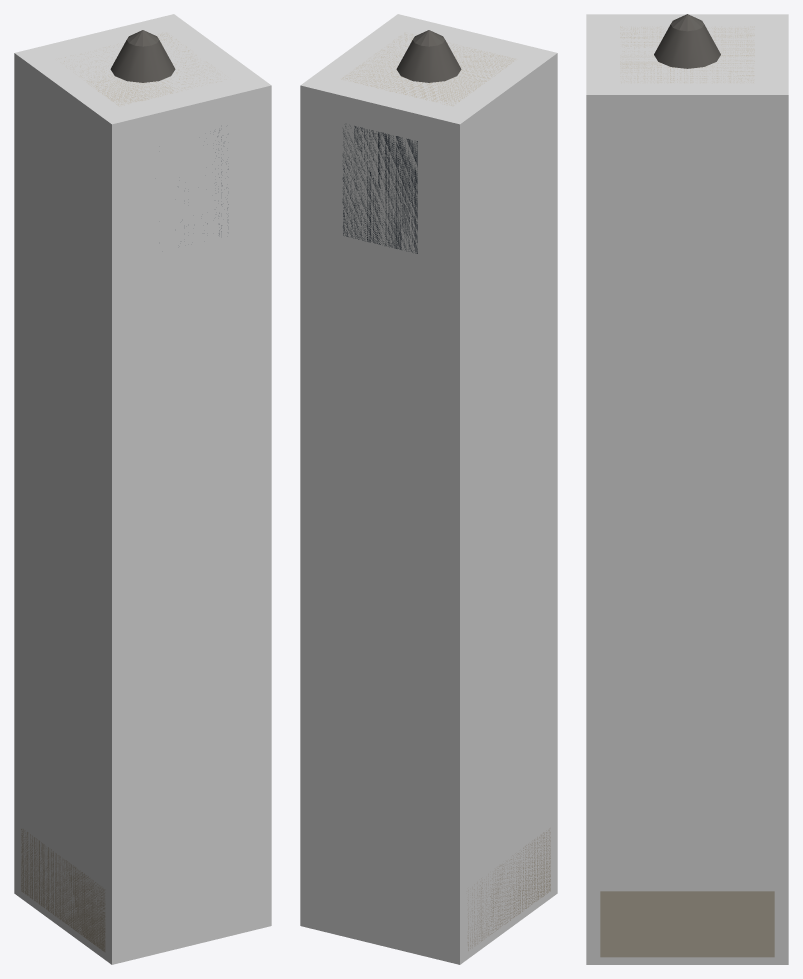
3 views of the same model, side by side, from view 1: azimuth 30°, elevation 25°; view 2: azimuth 150°, elevation 25°; view 3: azimuth 270°, elevation 25° (orthographic). The views are drawn at different scales.
Parts seen in each view (by area): view 1: col_pillar, T08_body; view 2: col_pillar, T08_body; view 3: col_pillar, T08_body.
Boxes of the visible parts, x1=… form: col_pillar: x1=14, y1=14, x2=271, y2=964; T08_body: x1=21, y1=30, x2=228, y2=952; col_pillar: x1=300, y1=14, x2=557, y2=964; T08_body: x1=341, y1=30, x2=550, y2=950; col_pillar: x1=586, y1=14, x2=788, y2=964; T08_body: x1=600, y1=14, x2=774, y2=957.
Size of the model in its own units: 0.68 by 3.58 by 0.72.
